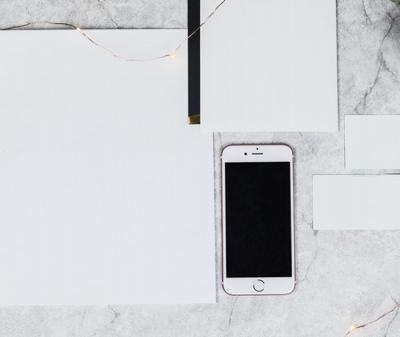Mobile Phone: (220, 142, 296, 296)
